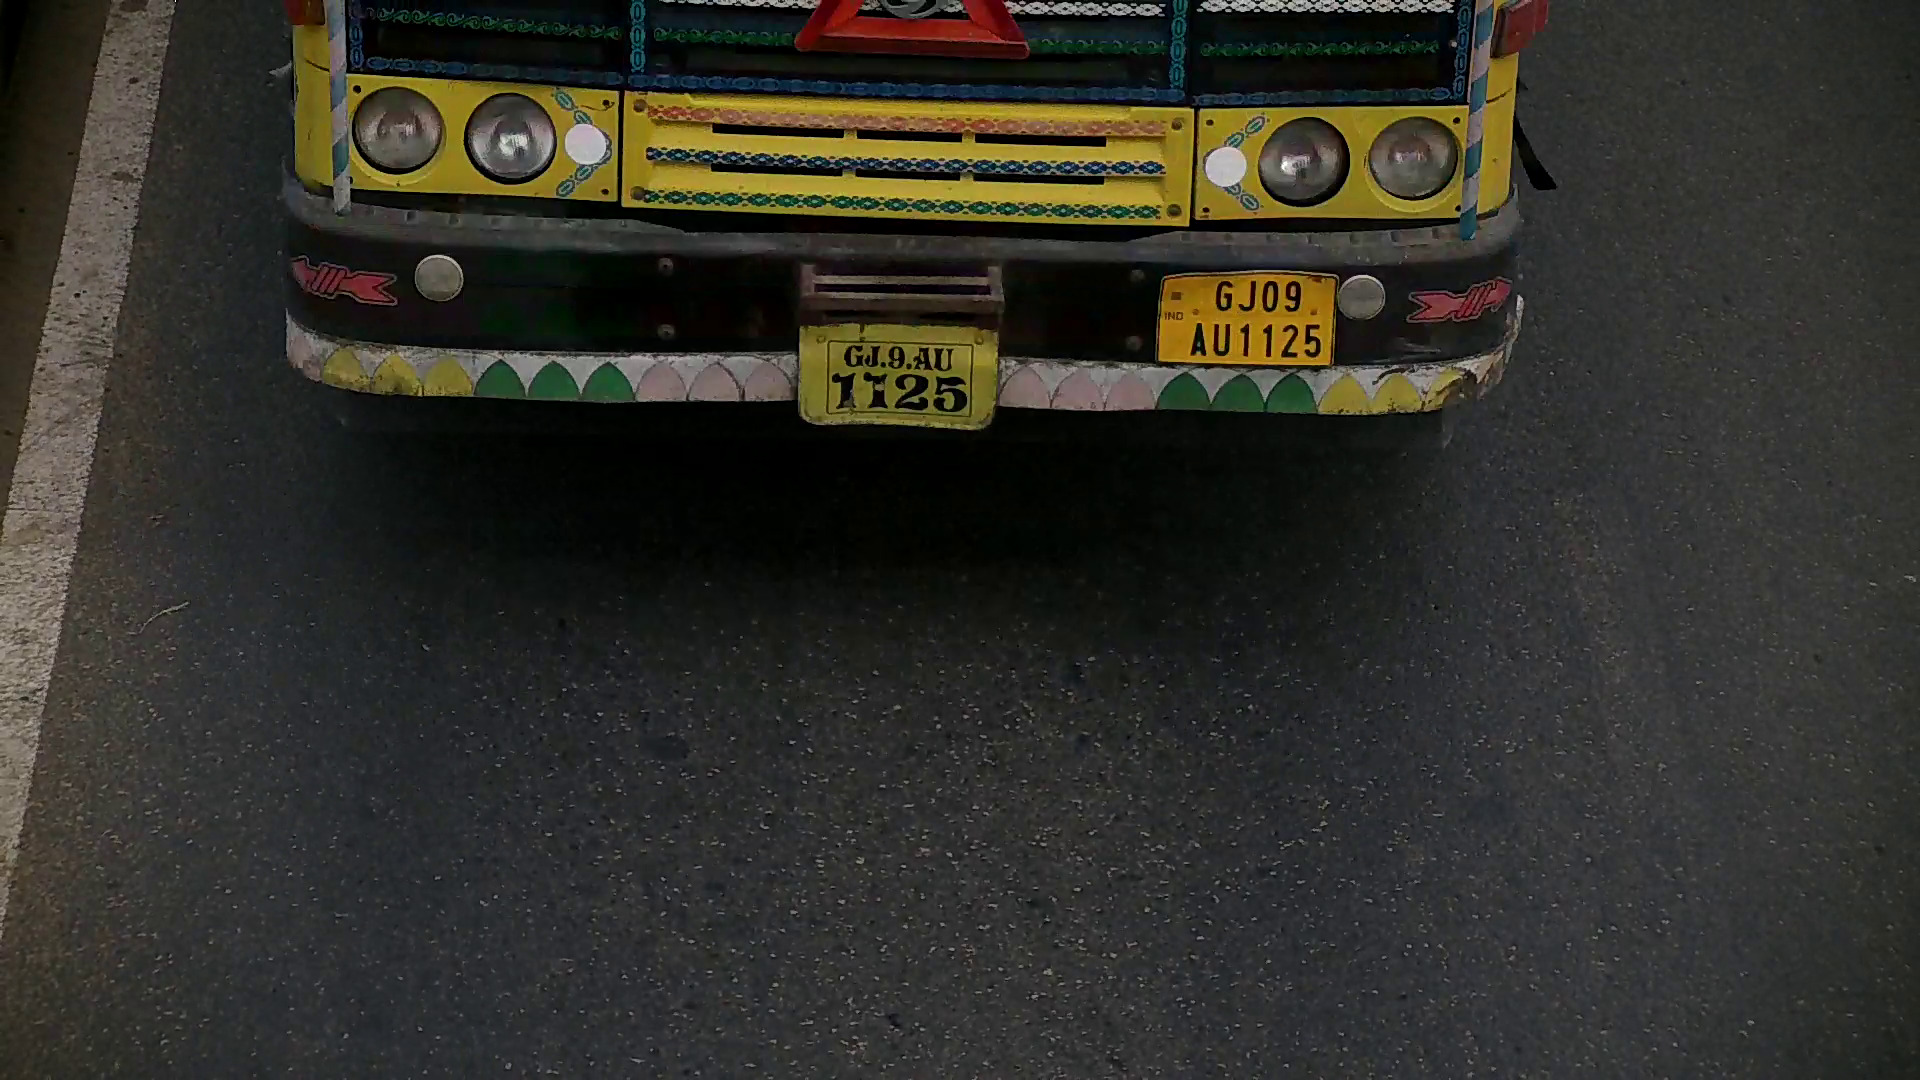doublelinenumberplate: (1151, 269, 1338, 375)
